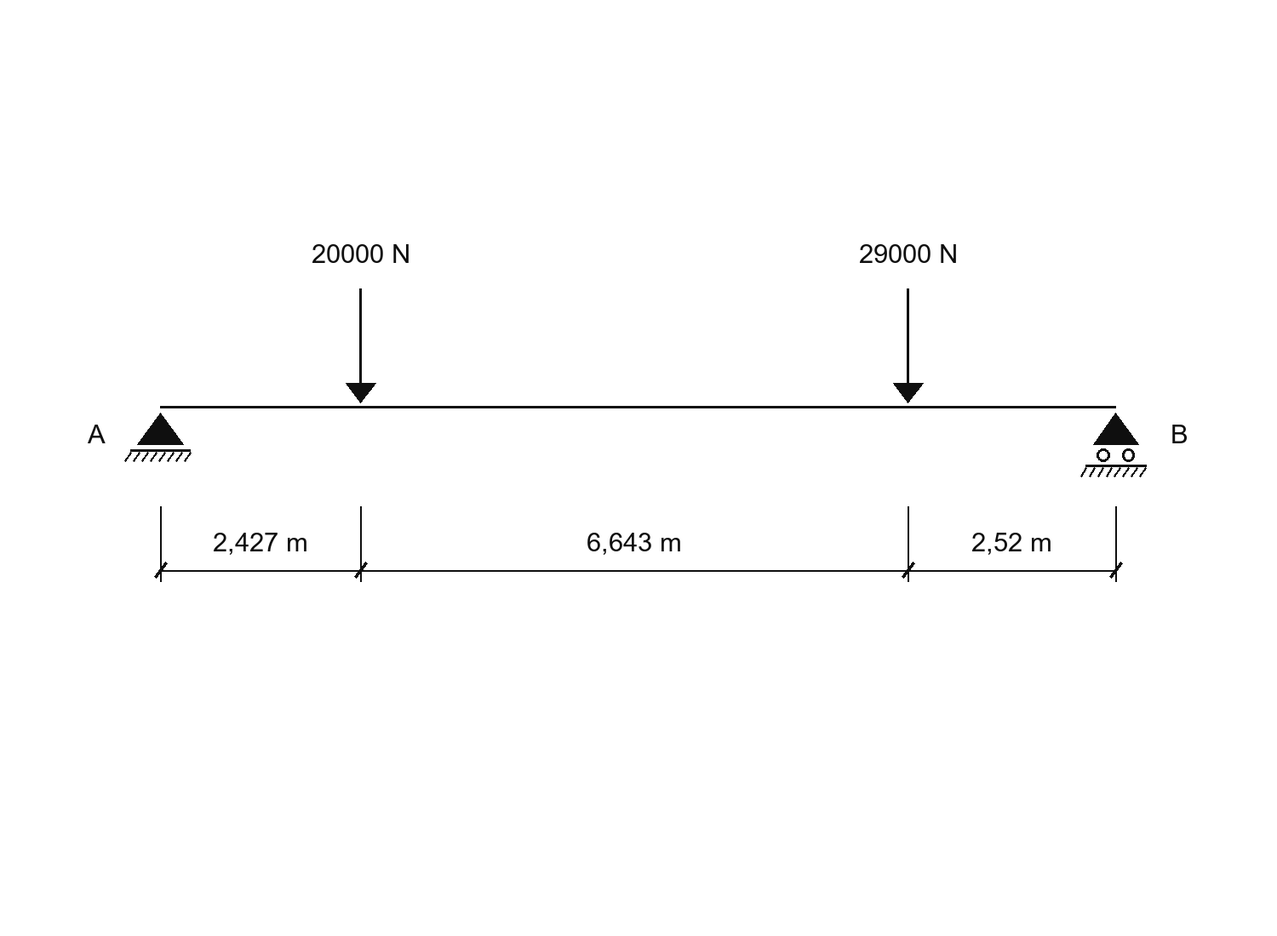pin_support: (124, 413, 192, 462)
point_load: (893, 288, 924, 403), (346, 288, 376, 403)
roller_support: (1080, 413, 1147, 477)
